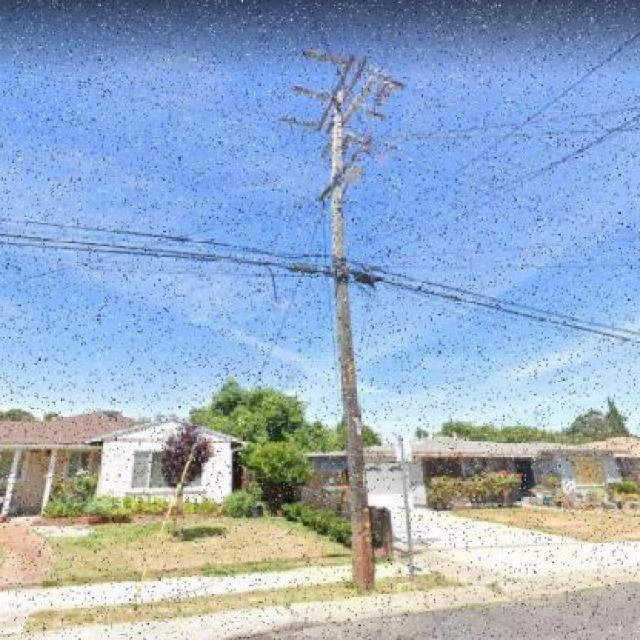pole: (266, 30, 422, 613)
